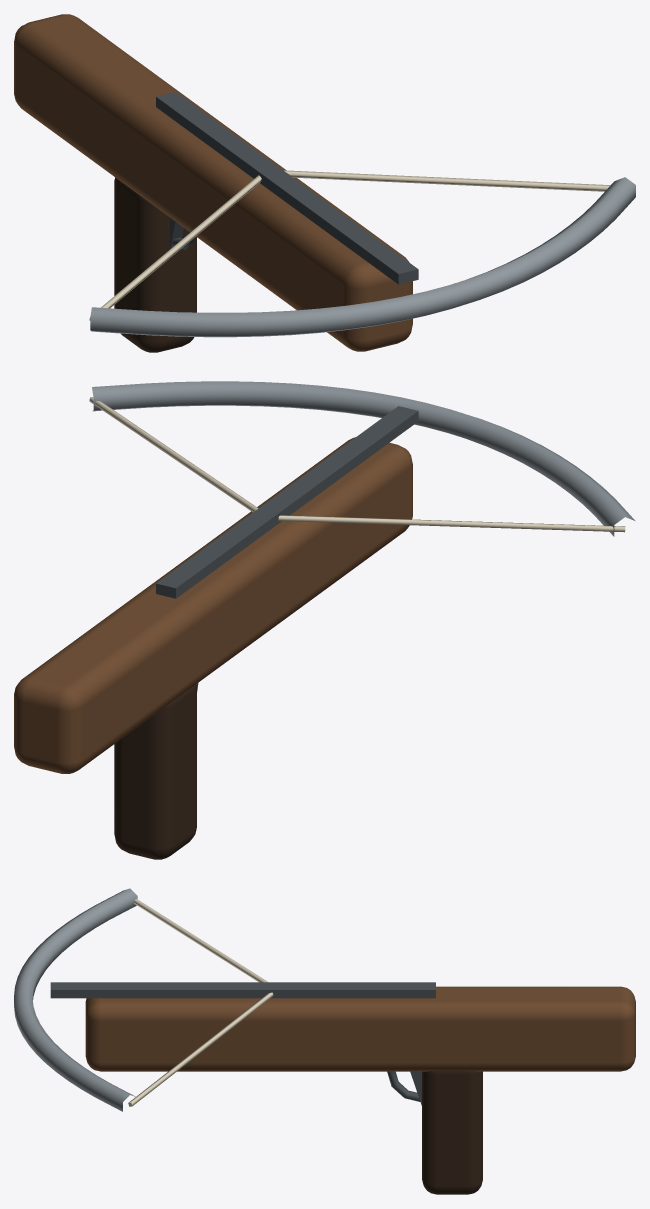
File: hand-crossbow.glb
3 renders of one model, top to bottom at view 1: azimuth 30°, elevation 25°; view 2: azimuth 150°, elevation 25°; view 3: azimuth 270°, elevation 25°, orthographic. The views are drawn at different scales.
Visible parts, largest first — view 1: hand-crossbow-stock, hand-crossbow-prod, hand-crossbow-grip, hand-crossbow-rail, hand-crossbow-string-return, hand-crossbow-string; view 2: hand-crossbow-stock, hand-crossbow-prod, hand-crossbow-grip, hand-crossbow-rail, hand-crossbow-string, hand-crossbow-string-return; view 3: hand-crossbow-stock, hand-crossbow-grip, hand-crossbow-prod, hand-crossbow-rail, hand-crossbow-string-return, hand-crossbow-string.
Boxes of the visible parts, bbox=[...] form: hand-crossbow-stock: bbox=[14, 14, 412, 351]; hand-crossbow-prod: bbox=[90, 177, 635, 337]; hand-crossbow-grip: bbox=[114, 177, 196, 352]; hand-crossbow-rail: bbox=[156, 92, 418, 284]; hand-crossbow-string-return: bbox=[284, 170, 610, 191]; hand-crossbow-string: bbox=[89, 175, 261, 320]; hand-crossbow-stock: bbox=[14, 437, 412, 773]; hand-crossbow-prod: bbox=[92, 381, 635, 536]; hand-crossbow-grip: bbox=[114, 684, 196, 859]; hand-crossbow-rail: bbox=[156, 406, 418, 598]; hand-crossbow-string: bbox=[278, 515, 625, 532]; hand-crossbow-string-return: bbox=[89, 397, 258, 512]; hand-crossbow-stock: bbox=[85, 986, 635, 1071]; hand-crossbow-grip: bbox=[422, 1070, 482, 1194]; hand-crossbow-prod: bbox=[14, 888, 137, 1111]; hand-crossbow-rail: bbox=[50, 982, 435, 998]; hand-crossbow-string-return: bbox=[128, 992, 273, 1106]; hand-crossbow-string: bbox=[134, 898, 268, 982].
Size of the model in its own units: 0.2547 by 0.1136 by 0.3164.
